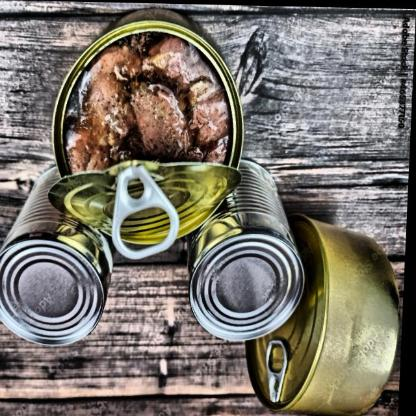Can: (242, 200, 408, 416), (172, 152, 316, 346), (0, 151, 118, 353)
